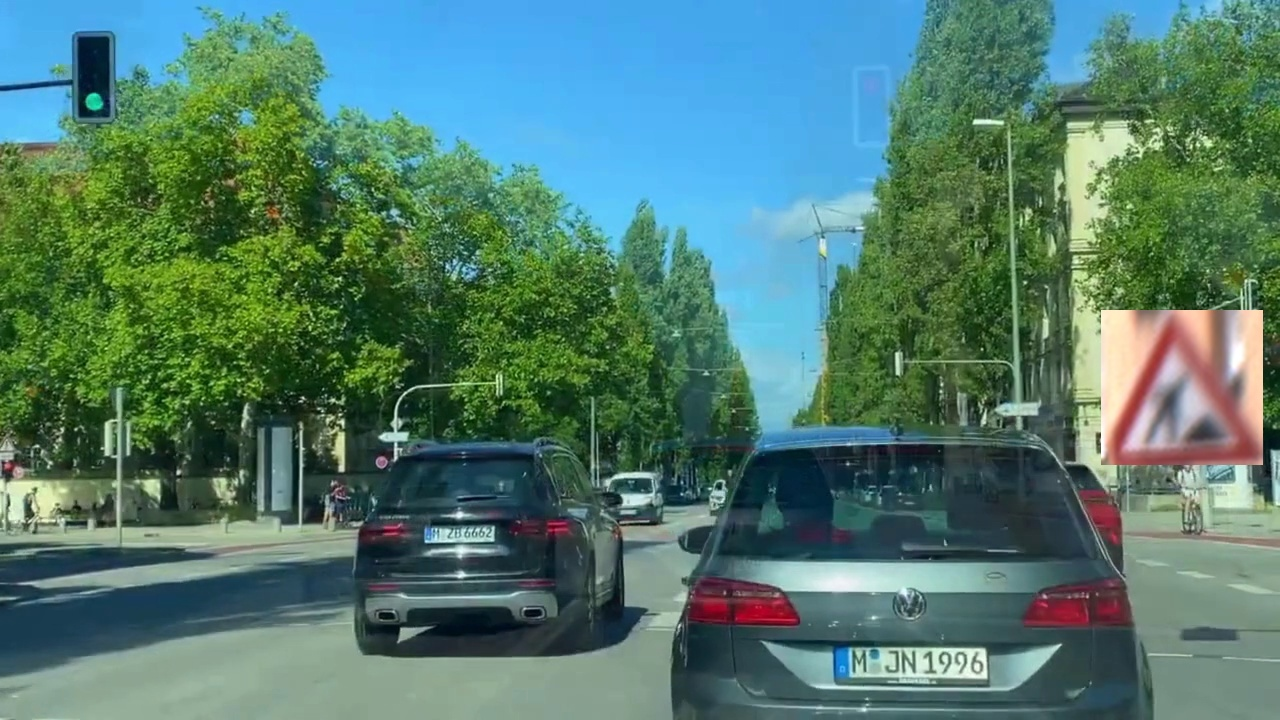Road work: (1101, 310, 1263, 465)
